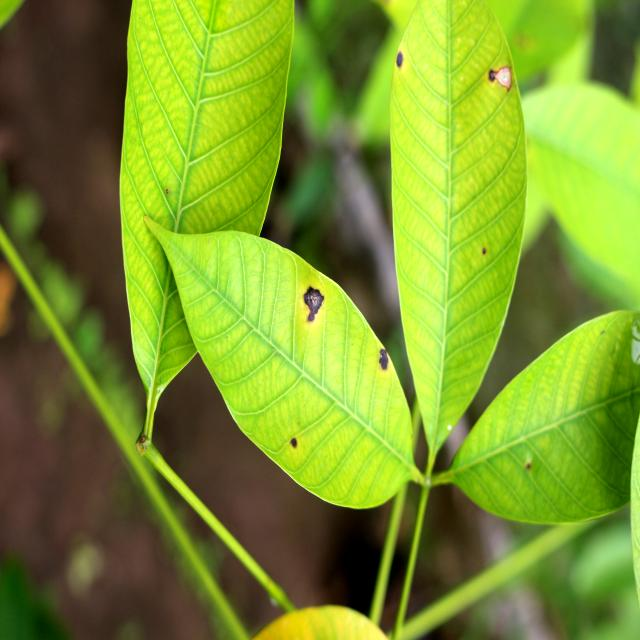Colletotrichum: (379, 349, 388, 369), (397, 51, 403, 67), (291, 438, 297, 447)
